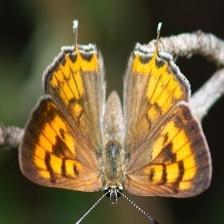butterfly: (19, 46, 212, 202)
